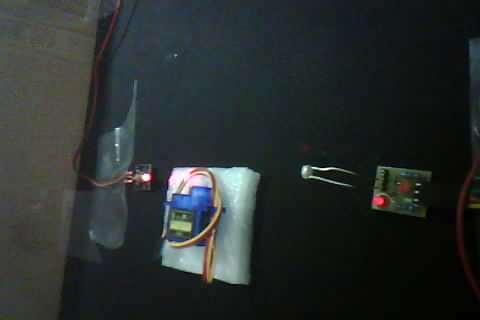motor: (147, 153, 247, 288)
